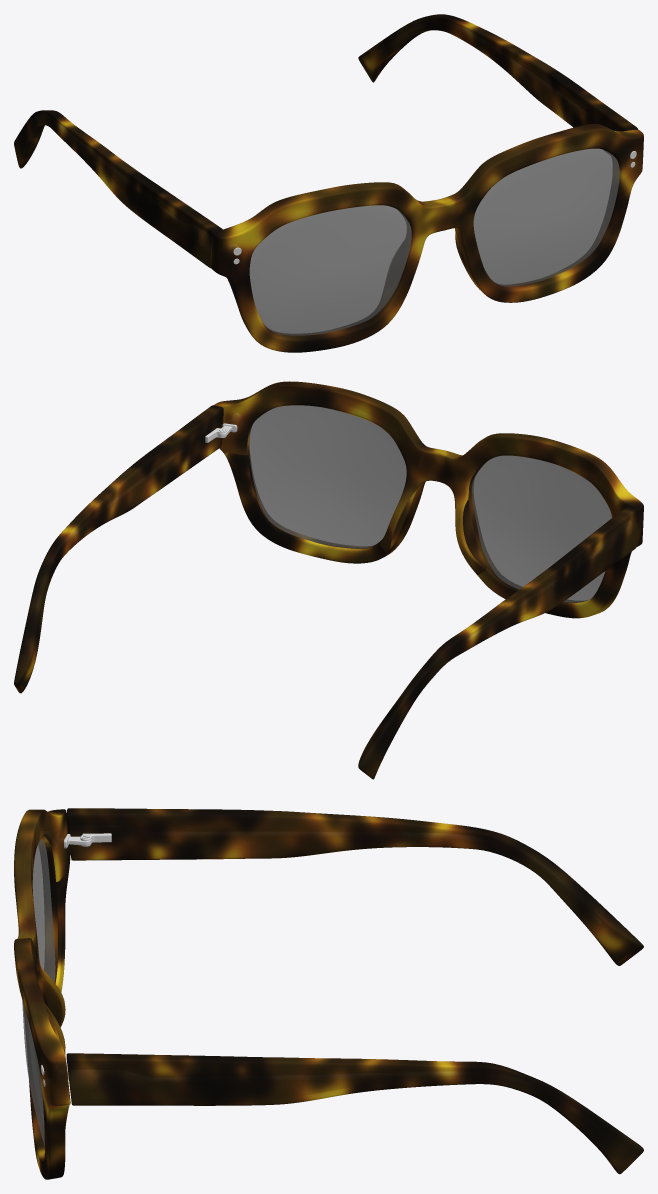
Rendered from babs-sun-sbf-tamarind-tortoise_wide.glb.
The picture shows the model from 3 angles, top to bottom: view 1: azimuth 30°, elevation 25°; view 2: azimuth 150°, elevation 25°; view 3: azimuth 270°, elevation 25°; orthographic projection. The views are drawn at different scales.
Visible parts, largest first — view 1: lenses, face_front, left_temple, right_temple; view 2: lenses, face_front, right_temple, left_temple; view 3: right_temple, left_temple, face_front, lenses.
Boxes of the visible parts, x1,y1,x2,y2 form: lenses: [249, 148, 619, 335]; face_front: [211, 124, 643, 352]; left_temple: [358, 14, 637, 154]; right_temple: [14, 110, 222, 268]; lenses: [249, 405, 611, 602]; face_front: [214, 381, 643, 618]; right_temple: [358, 506, 638, 779]; left_temple: [14, 405, 223, 693]; right_temple: [66, 808, 643, 965]; left_temple: [66, 1053, 643, 1174]; face_front: [14, 809, 70, 1179]; lenses: [22, 838, 55, 1146].
Bounding box in the file's own units: 0.1423 × 0.0517 × 0.1495.
Materials: 4 (1 with a texture image).
